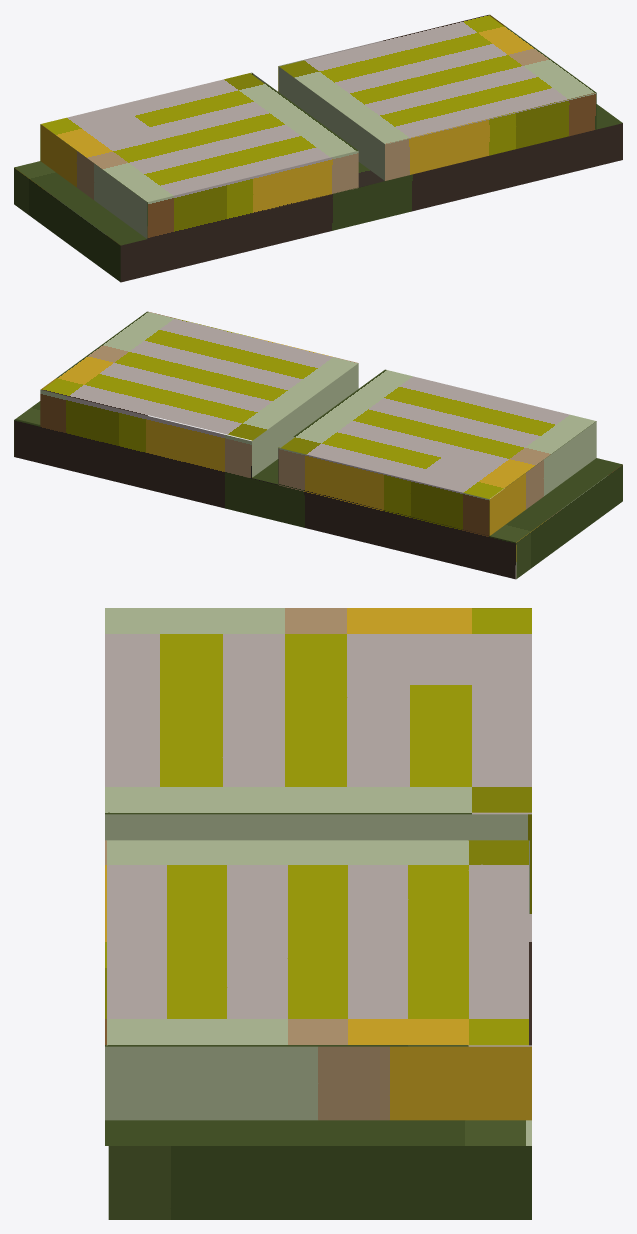
Rendered from book_642x09.obj.
3 renders of one model, top to bottom at view 1: azimuth 30°, elevation 25°; view 2: azimuth 150°, elevation 25°; view 3: azimuth 270°, elevation 25°, orthographic. The views are drawn at different scales.
Parts seen in each view (by area): view 1: Cube; view 2: Cube; view 3: Cube.
Part boxes in pixels (x1,y1,x2,y2): Cube: [14, 14, 622, 282]; Cube: [14, 311, 622, 579]; Cube: [105, 608, 531, 1219].
Size of the model in its own units: 2.38 by 0.3333 by 0.875.
